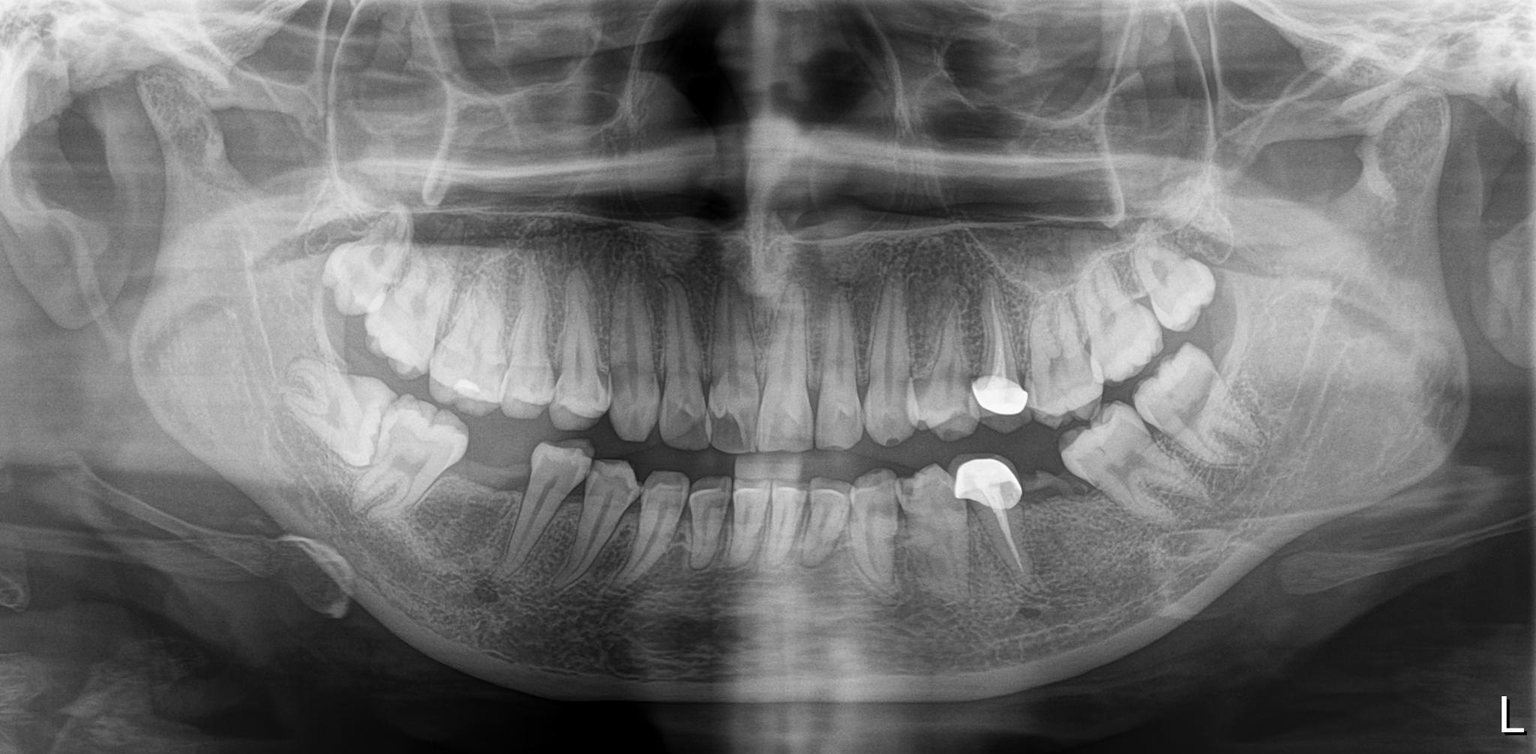Dental Caries: (673, 411, 757, 454)
Endodontically Treated Tooth: (971, 287, 1033, 436), (954, 465, 1024, 591)
Impacted Third Molar: (281, 356, 395, 468), (319, 197, 404, 313)
Missing Tooth: (1020, 461, 1117, 582), (448, 450, 533, 561)
